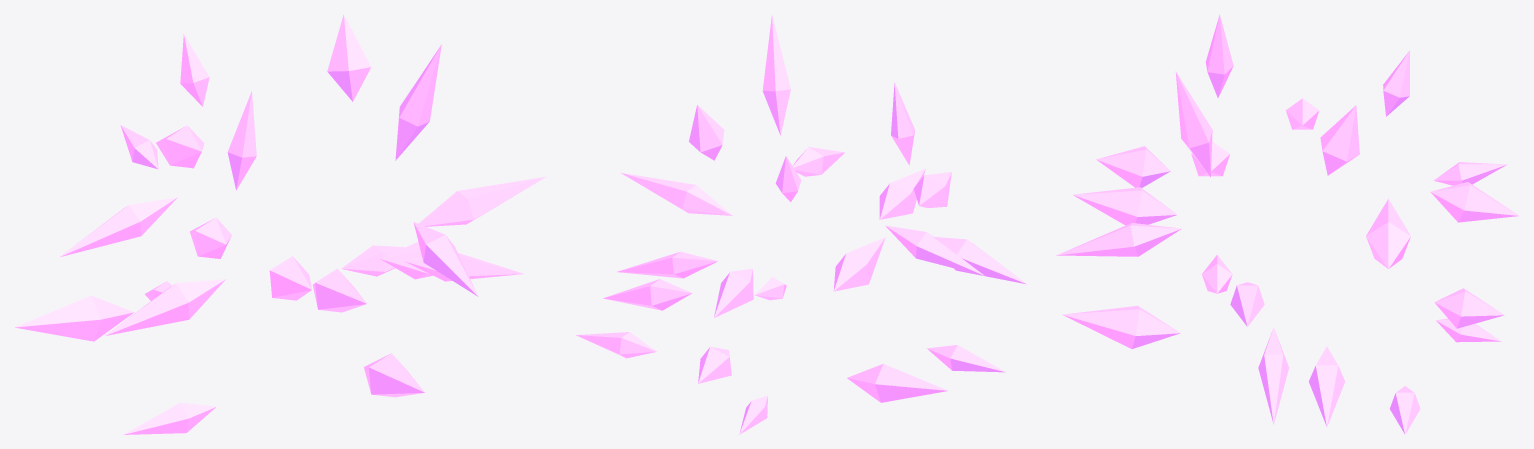
Rendered from voidstone-ore.glb.
3 views of the same model, side by side, from view 1: azimuth 30°, elevation 25°; view 2: azimuth 150°, elevation 25°; view 3: azimuth 270°, elevation 25° (orthographic). The views are drawn at different scales.
Parts seen in each view (by area): view 1: ore; view 2: ore; view 3: ore.
Part boxes in pixels (x1,y1,x2,y2): ore: [14, 14, 546, 434]; ore: [576, 14, 1026, 434]; ore: [1056, 14, 1519, 434].
Size of the model in its own units: 3.42 by 2.43 by 3.07.
